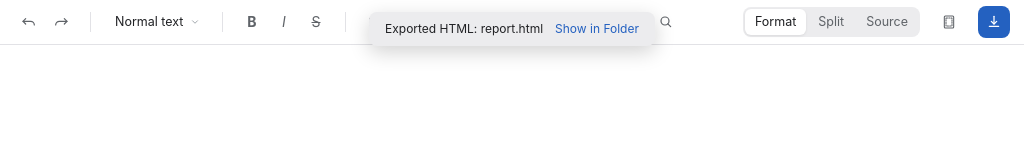
EditorToolbar › clicking "Show in Folder" reveals the real exported path and dismisses the toast
The image size is (1024, 160).
Check: the message "Exported HTML: report.html Show in Folder" is shown, box x1=369 y1=12 x2=655 y2=46
Step 1. Click the button "Show in Folder" → (597, 29), box x1=555 y1=20 x2=639 y2=38
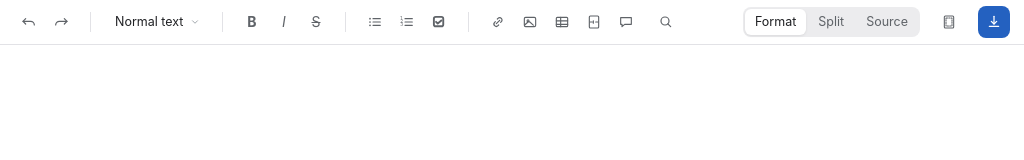
Check: the message "Exported HTML: report.html Show in Folder" is gone
